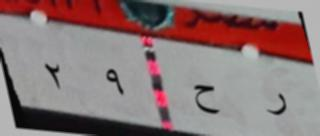2: (33, 57, 69, 97)
7aa: (182, 71, 227, 120)
9: (95, 63, 130, 98)
raa: (254, 81, 295, 127)
